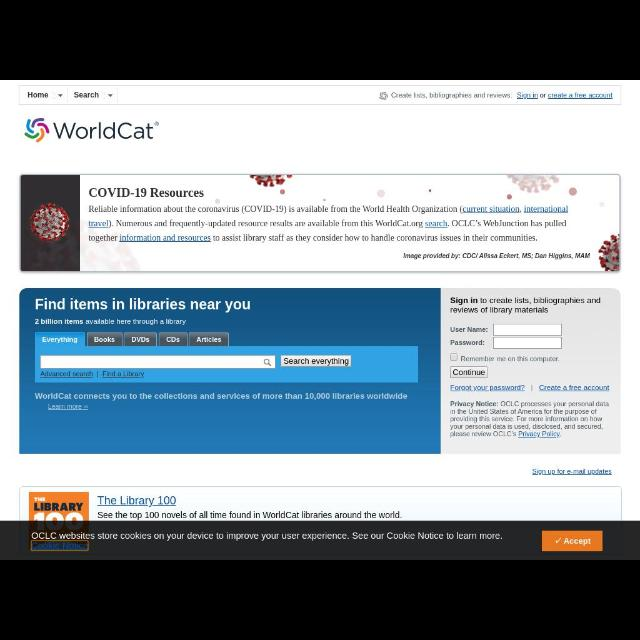backgroundimage: (19, 175, 617, 271)
checkbox: (450, 354, 458, 361)
icon: (377, 91, 389, 101), (262, 358, 272, 366), (58, 94, 62, 98), (109, 95, 113, 97)
iframe: (1, 522, 639, 558)
image: (23, 117, 159, 147), (30, 493, 90, 519)
input: (42, 356, 274, 368), (493, 337, 562, 349), (492, 325, 562, 335)
link: (97, 496, 177, 508), (450, 383, 526, 393), (118, 234, 212, 242), (532, 468, 612, 476), (462, 206, 520, 214), (538, 386, 612, 392), (548, 93, 614, 99), (522, 206, 570, 214), (518, 430, 562, 438), (517, 92, 539, 100), (88, 220, 109, 228), (424, 222, 448, 228)
spinner: (28, 92, 64, 100), (74, 92, 114, 98)
text: (88, 204, 572, 242), (450, 399, 610, 438), (35, 391, 408, 401), (36, 298, 252, 314), (450, 296, 602, 314), (97, 512, 400, 520), (402, 250, 592, 262), (86, 186, 204, 200), (33, 316, 187, 326), (460, 355, 560, 363), (392, 93, 512, 99), (44, 402, 90, 412), (40, 370, 94, 378), (41, 336, 77, 344), (102, 372, 146, 378), (450, 339, 484, 346), (450, 326, 488, 332), (74, 92, 100, 98), (197, 336, 223, 342), (94, 337, 116, 343), (28, 92, 48, 98), (166, 335, 180, 343), (132, 337, 150, 343), (540, 93, 546, 99)
textbutton: (280, 357, 350, 367), (450, 368, 488, 378)
toolbar: (36, 334, 230, 346)
